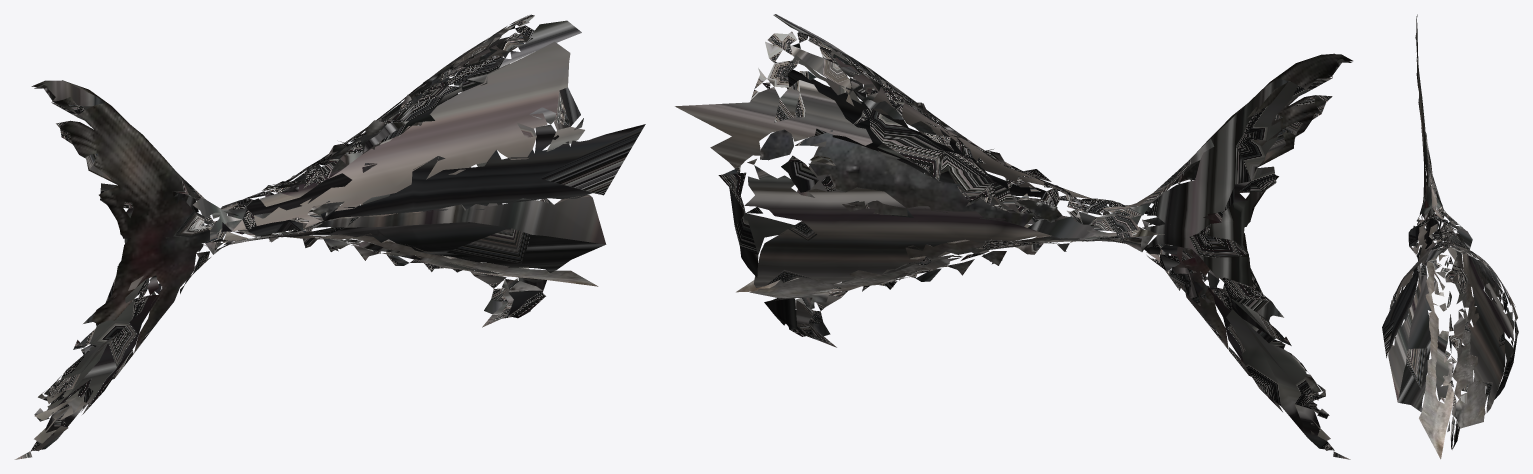
Rendered from bluefin_b.glb.
The picture shows the model from 3 angles, left to right: view 1: azimuth 30°, elevation 25°; view 2: azimuth 150°, elevation 25°; view 3: azimuth 270°, elevation 25°; orthographic projection. The views are drawn at different scales.
Visible parts, largest first — view 1: bluefin_b; view 2: bluefin_b; view 3: bluefin_b.
Boxes of the visible parts, bbox=[...] form: bluefin_b: bbox=[14, 14, 645, 459]; bluefin_b: bbox=[675, 14, 1352, 459]; bluefin_b: bbox=[1382, 14, 1518, 459].
Bounding box in the file's own units: 0.813 × 0.4988 × 0.2318.
Materials: 1 (1 with a texture image).
